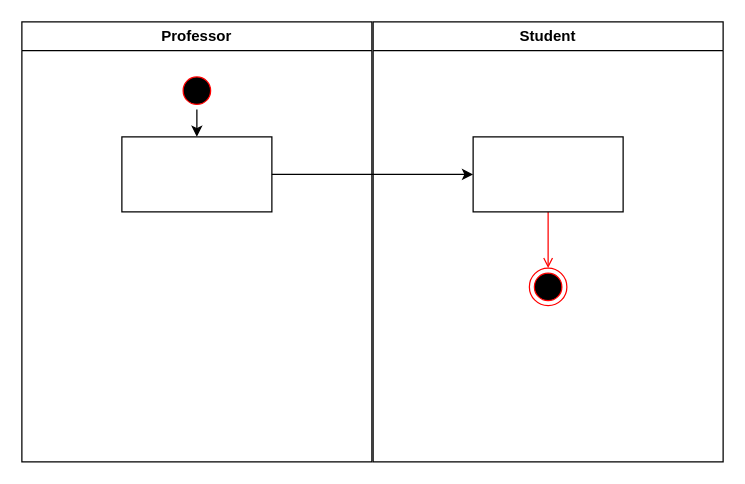
The diagram is 745 pixels wide and 484 high, and some of its shapes have lost their labels. Here are the shapes that lost their labels. From the top down, the centre of each, then its label:
At pixel 196 174: "Enters Attendance".
At pixel 547 174: "Receive Attendance".
